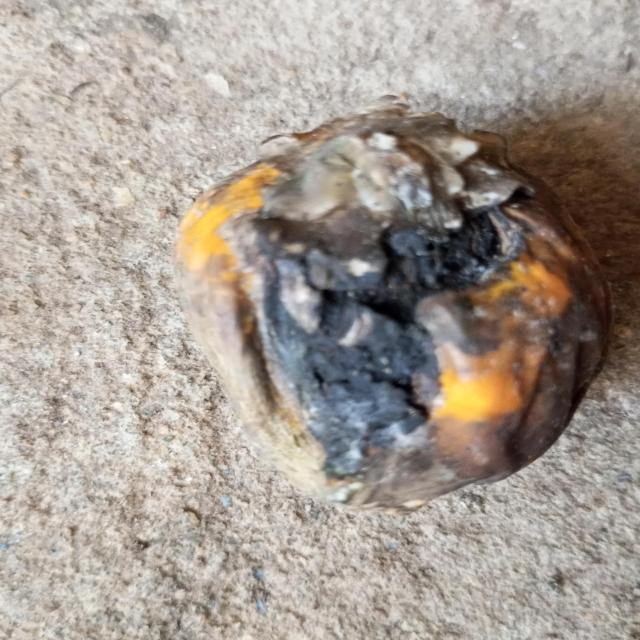damaged: (174, 100, 614, 515)
